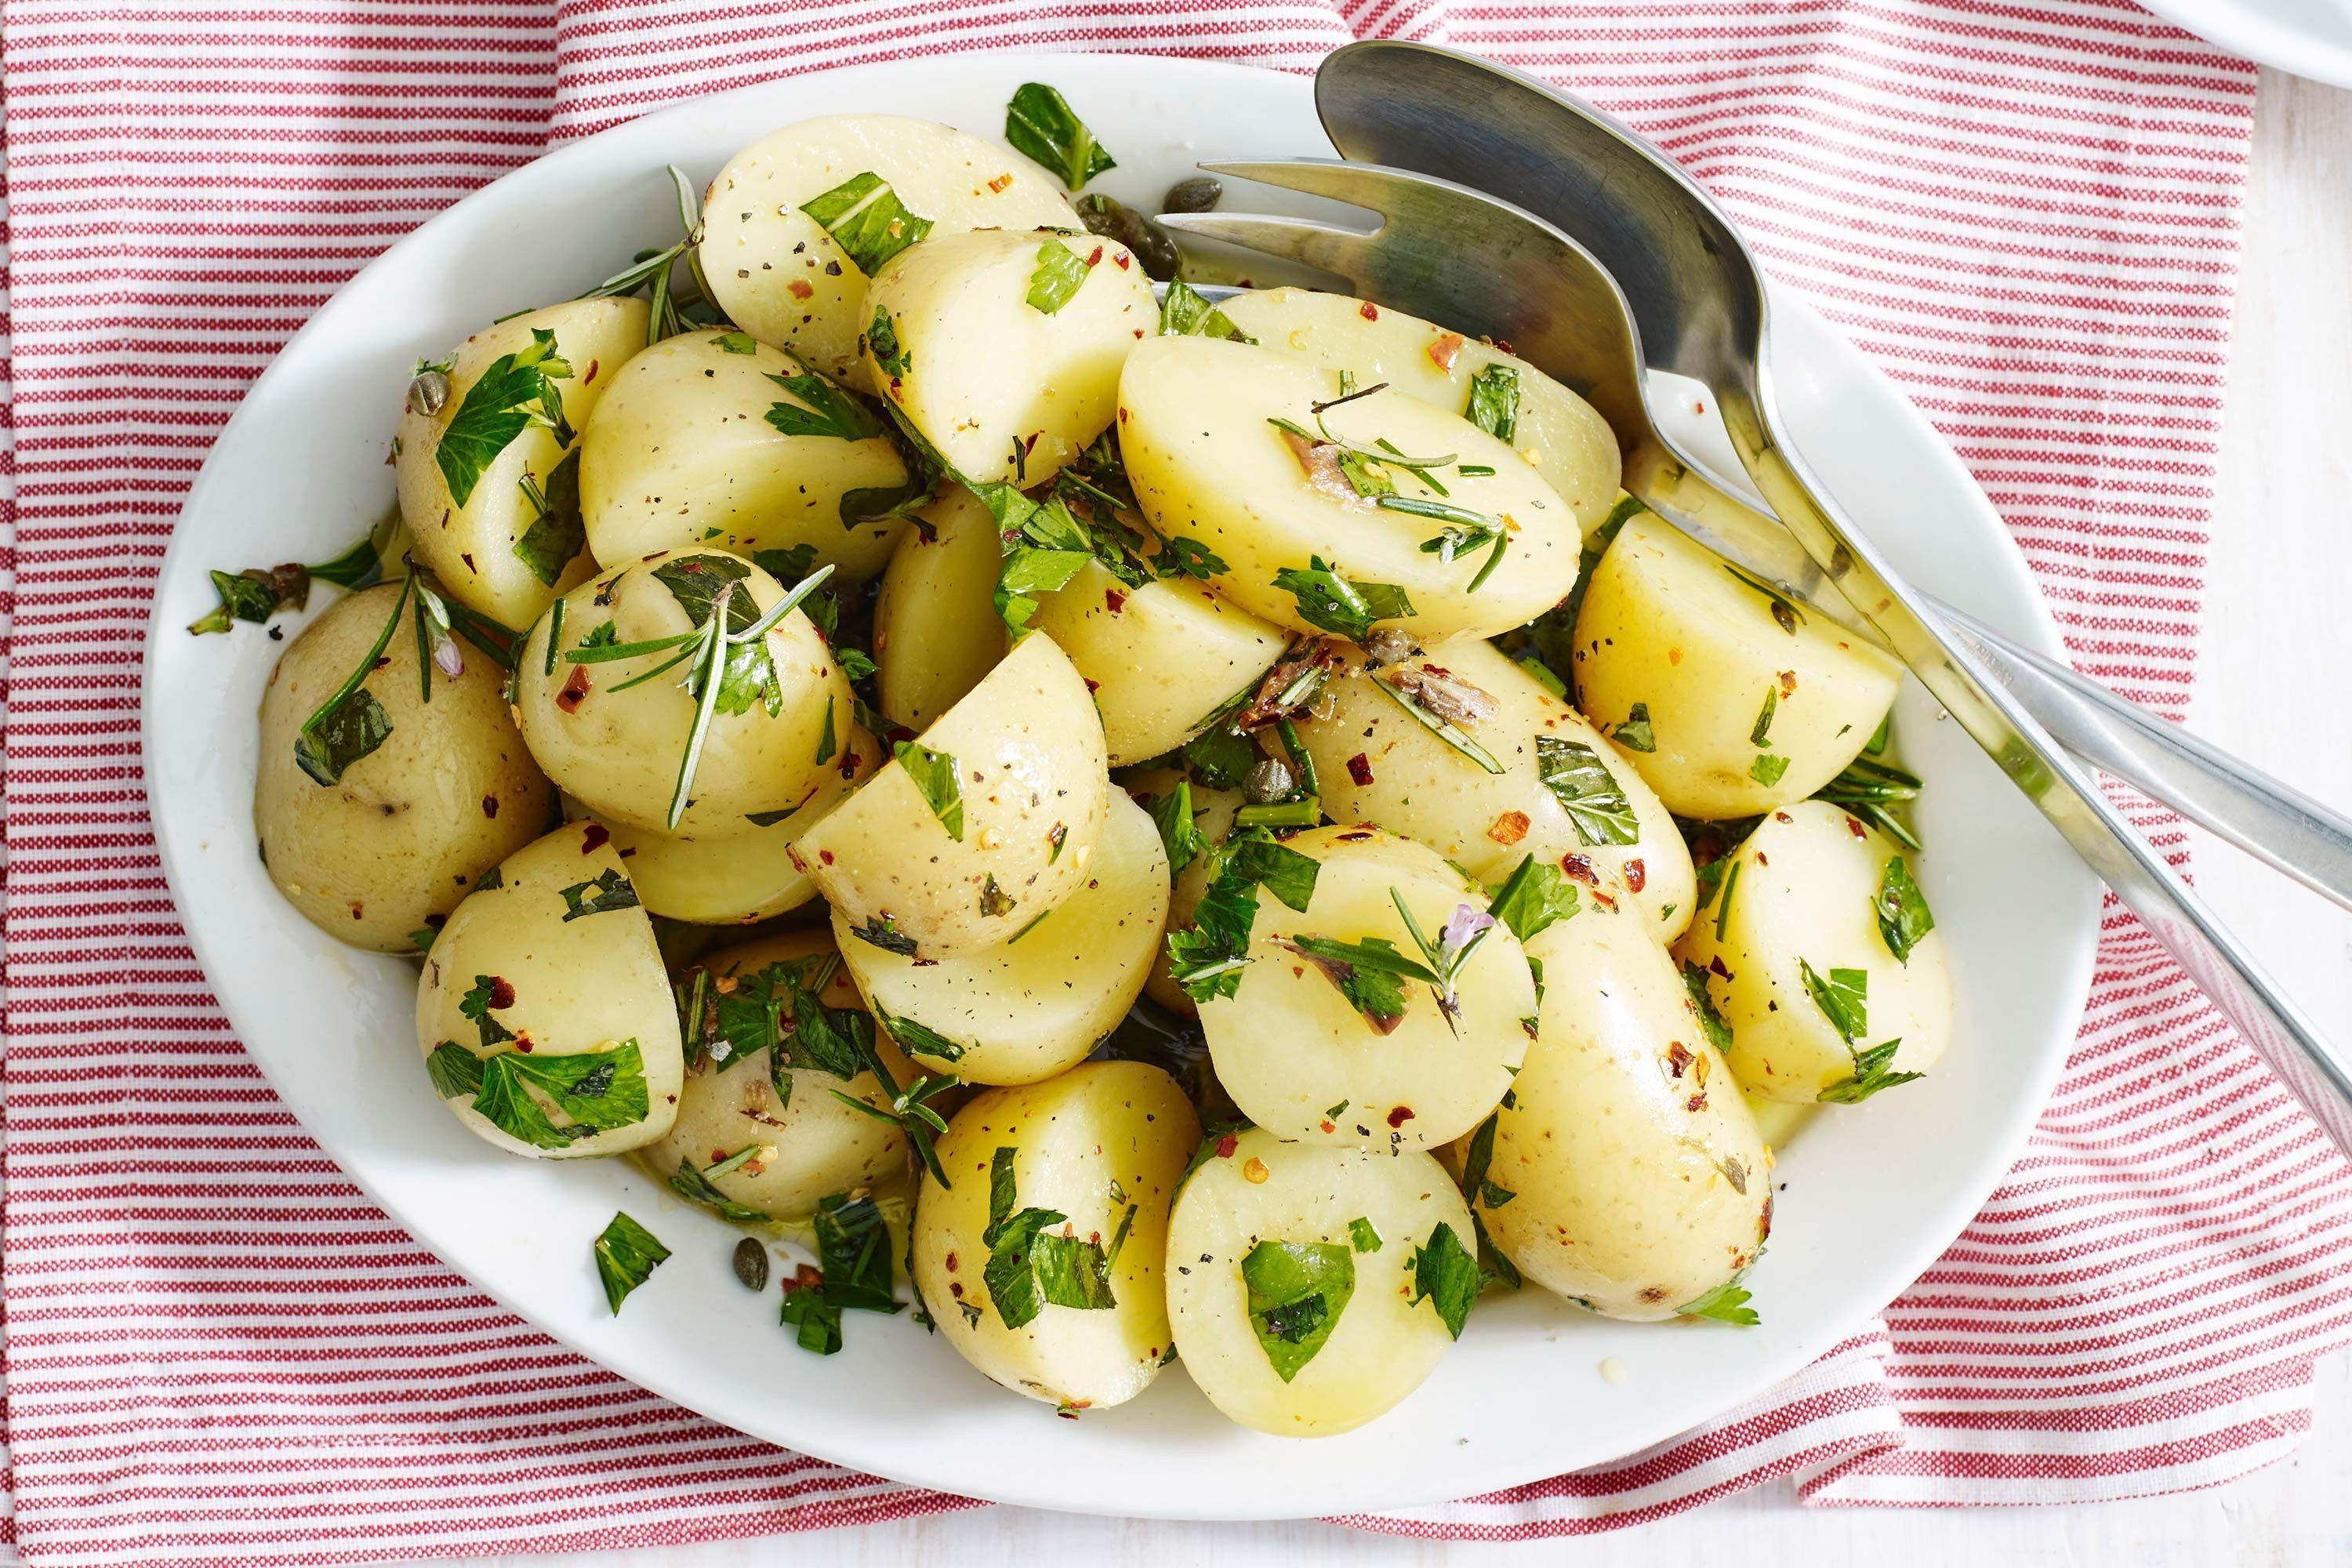boiled potatoes: (382, 161, 1815, 1326)
